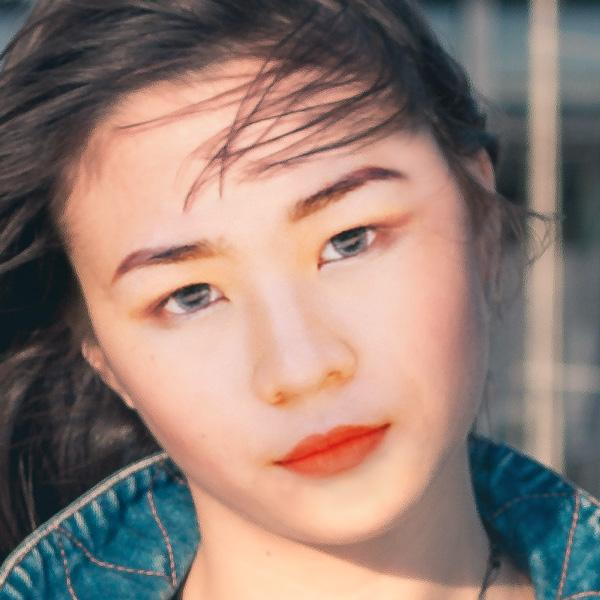Eyes: (304, 209, 400, 284), (145, 271, 239, 331)
